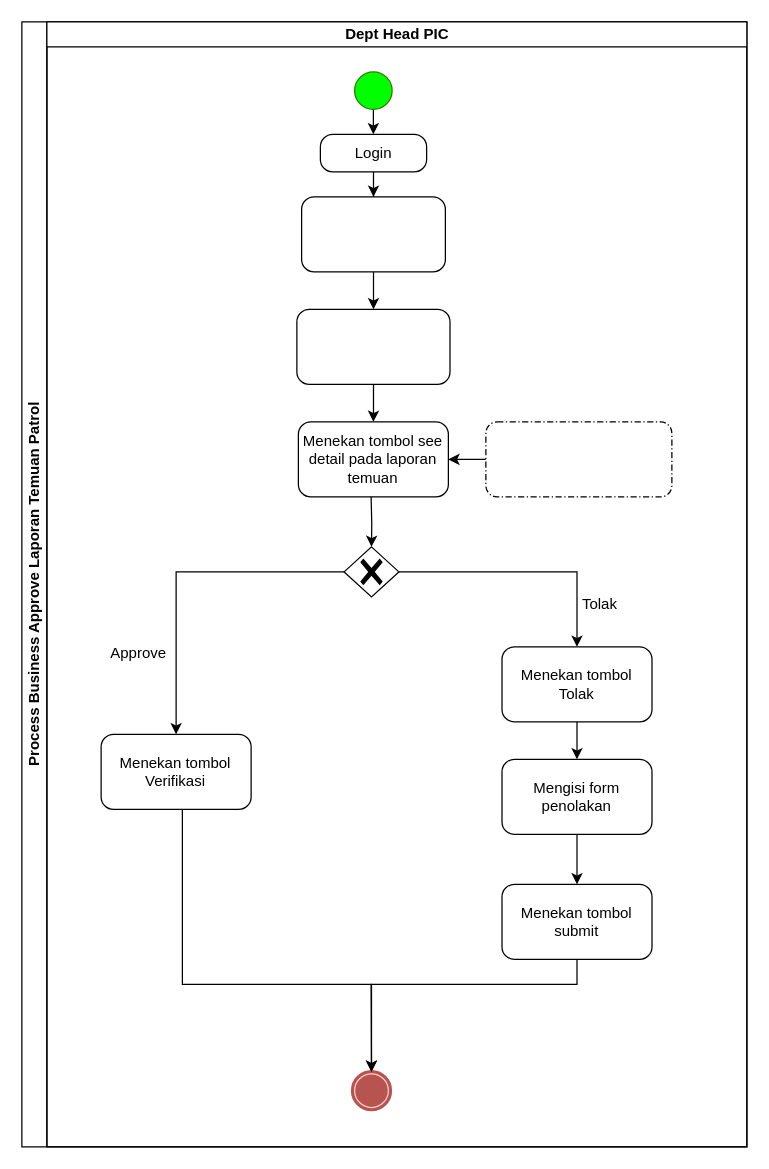
This 769x1169 diagram has some shape labels left out. The centre of each missing label's shape, as x and y in pixels:
"Approve Laporan?" goes at point (371, 571).
"Membuka halaman Laporan Patrol" goes at point (372, 234).
"Menekan tombol see detail pada jadwal laporan patrol" goes at point (373, 346).
"Temuan harus memiliki indikator proses ceklis berwarna kuning" goes at point (578, 459).
